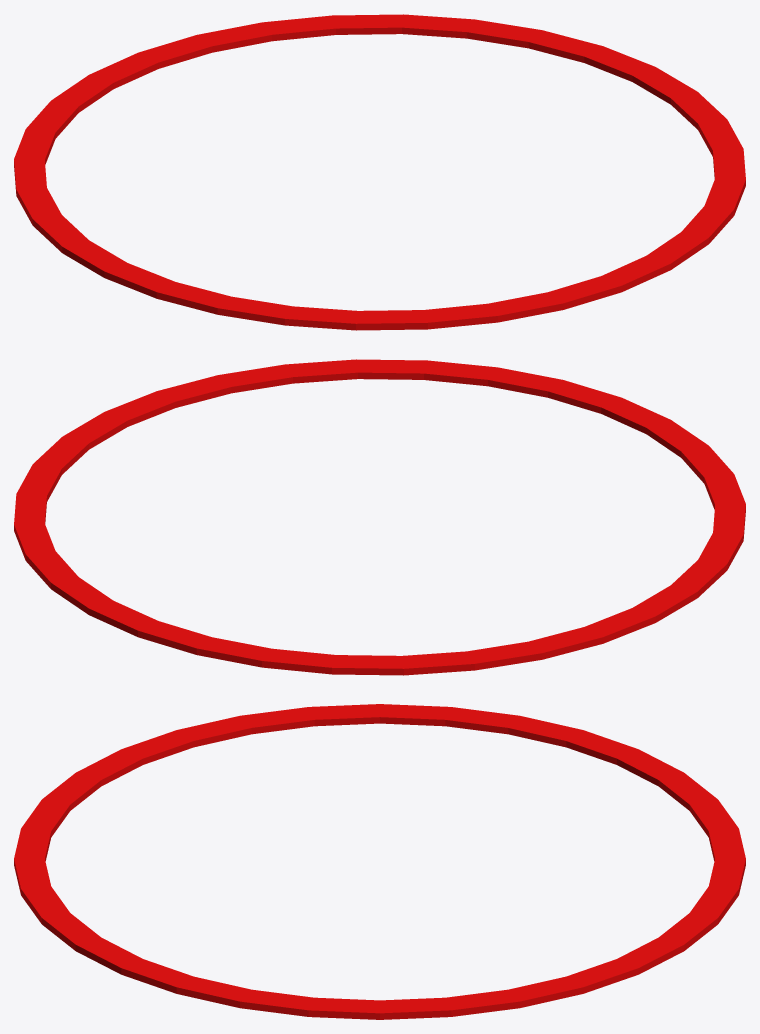
Rendered from red_circle.fbx.
3 views of the same model, one above another, from view 1: azimuth 30°, elevation 25°; view 2: azimuth 150°, elevation 25°; view 3: azimuth 270°, elevation 25° (orthographic).
Visible parts, largest first — view 1: red_circle; view 2: red_circle; view 3: red_circle.
Boxes of the visible parts, <box> form: red_circle: <box>14,14,745,330</box>; red_circle: <box>14,359,745,675</box>; red_circle: <box>14,704,745,1019</box>.
Size of the model in its own units: 1087 by 10.88 by 1087.
